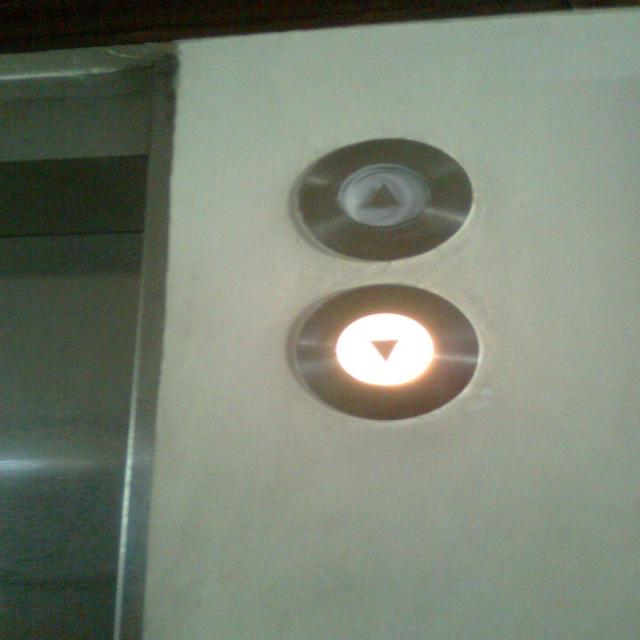down: (283, 282, 483, 422)
up: (289, 137, 475, 263)
